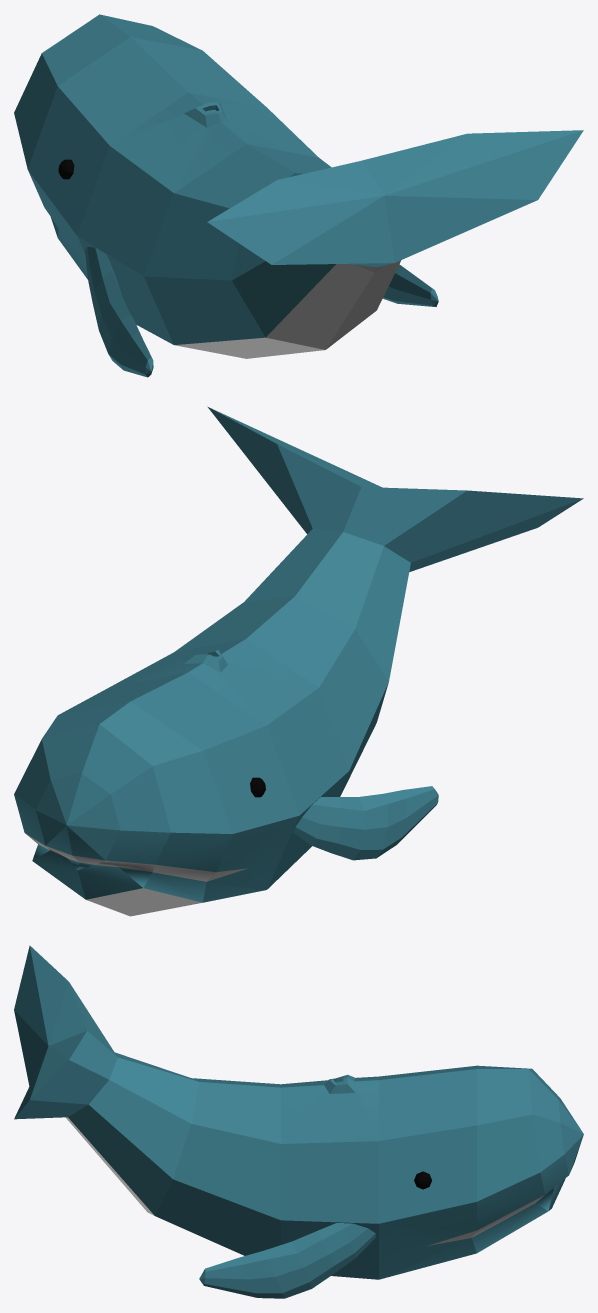
The model's file is source_whale.fbx.
The picture shows the model from 3 angles, top to bottom: view 1: azimuth 30°, elevation 25°; view 2: azimuth 150°, elevation 25°; view 3: azimuth 270°, elevation 25°; orthographic projection. The views are drawn at different scales.
Visible parts, largest first — view 1: pSphere7; view 2: pSphere7; view 3: pSphere7.
Part boxes in pixels (bbox=[...]): pSphere7: bbox=[14, 14, 583, 377]; pSphere7: bbox=[14, 406, 583, 916]; pSphere7: bbox=[14, 945, 583, 1298].
Size of the model in its own units: 4.2 by 3.23 by 6.54.
